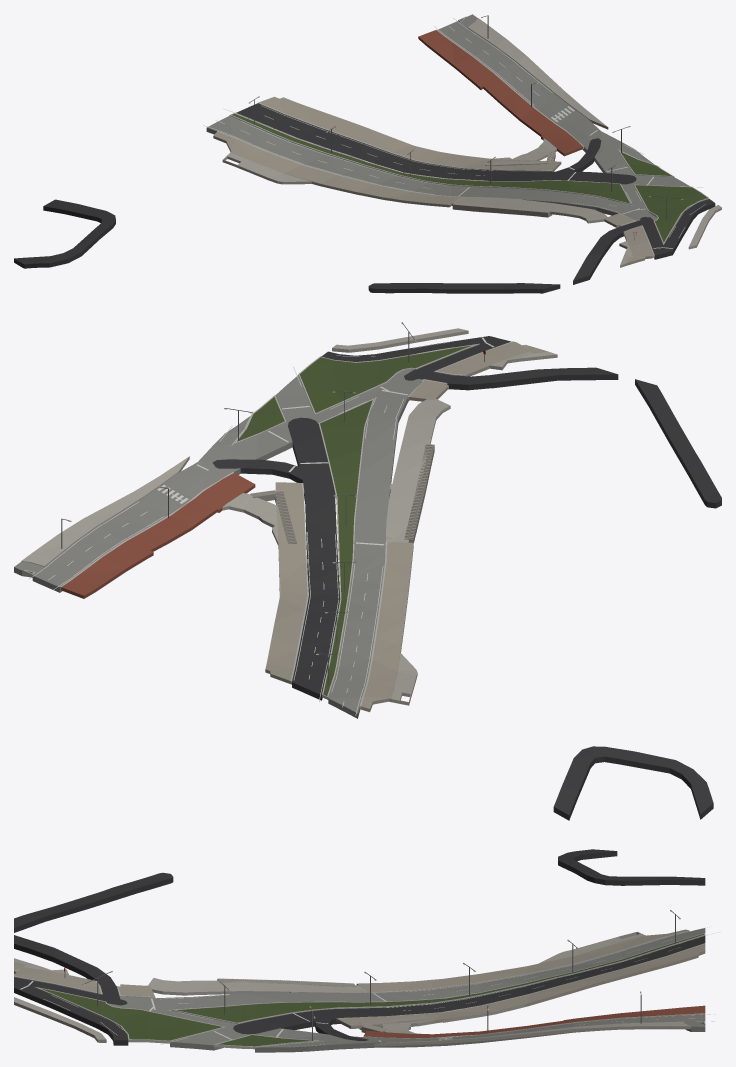
3 renders of one model, top to bottom at view 1: azimuth 30°, elevation 25°; view 2: azimuth 150°, elevation 25°; view 3: azimuth 270°, elevation 25°, orthographic. The views are drawn at different scales.
Size of the model in its own units: 149 by 34.56 by 149.
